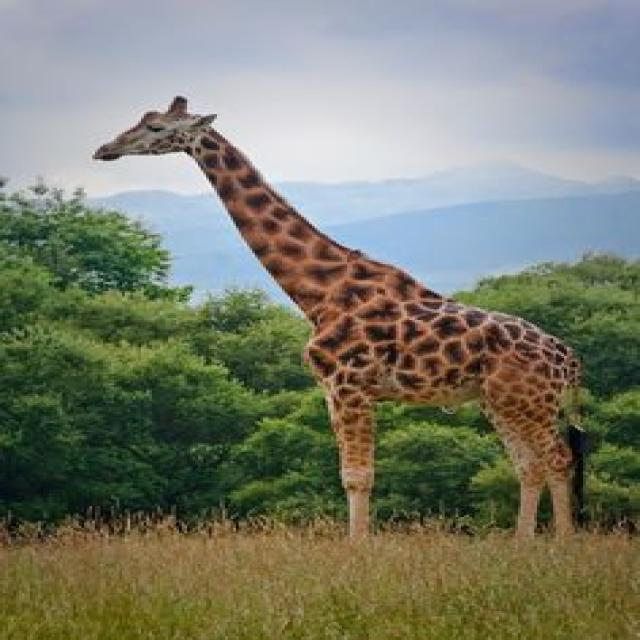Herbivorous: (92, 96, 588, 544)
